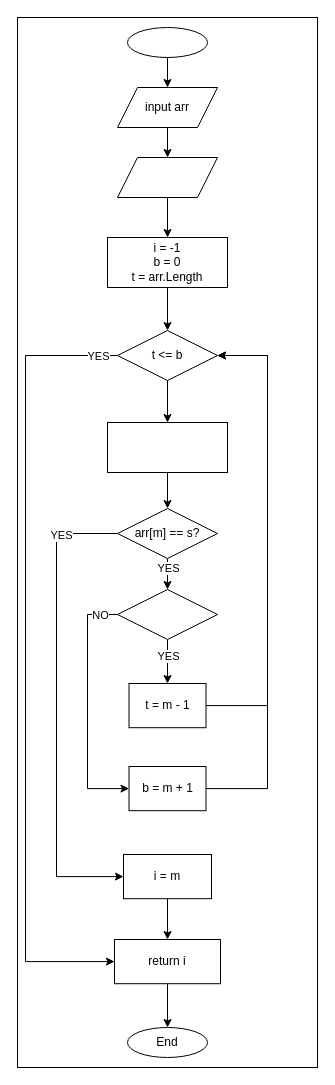
This 335x1085 diagram has some shape labels left out. The shapes that lost their labels are listed below. From the top down, each one's centre as x and y in pixels, then its label:
At [167,42]: "Start".
At [167,177]: "input s".
At [167,447]: "m = (b + t) / 2".
At [167,614]: "arr[m] > s?".
